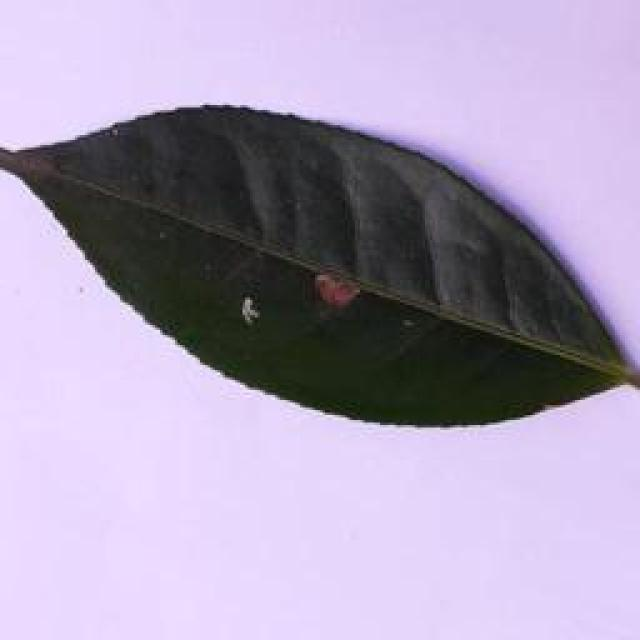Gray Blight: (0, 102, 638, 432)
